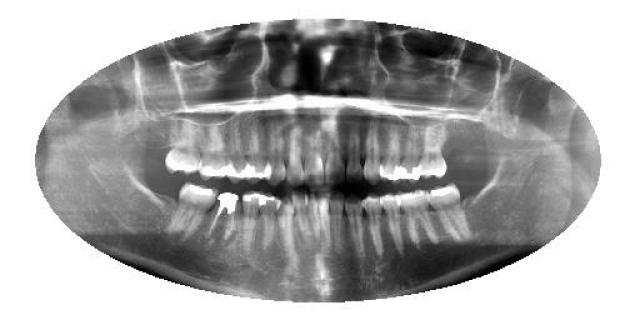Fillings: (199, 124, 229, 180), (226, 117, 250, 185), (241, 189, 264, 250), (380, 122, 402, 182), (401, 116, 420, 185), (246, 115, 265, 183)
Implant: (206, 192, 240, 238)
